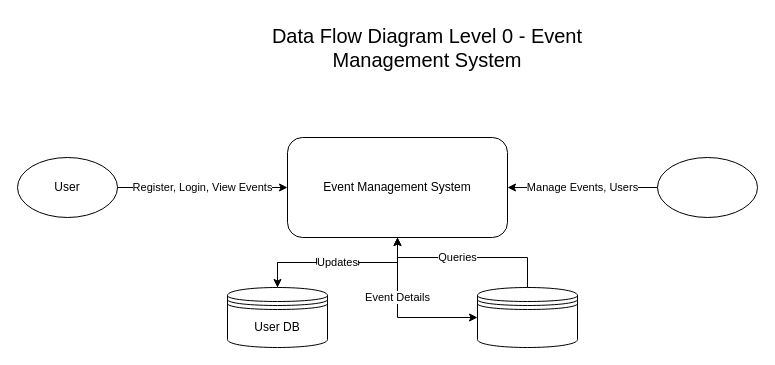
Image size: 775x365. Some labels were removed from this diagram. The shapes that lost their labels are listed below. From the top down, each one's centre as x and y in pixels, then its label:
the point at 707,187: Admin
the point at 527,317: Event DB
